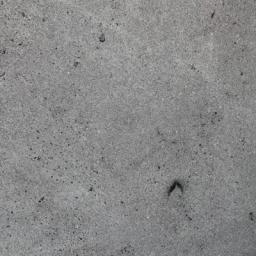FOD: (166, 181, 186, 205)
